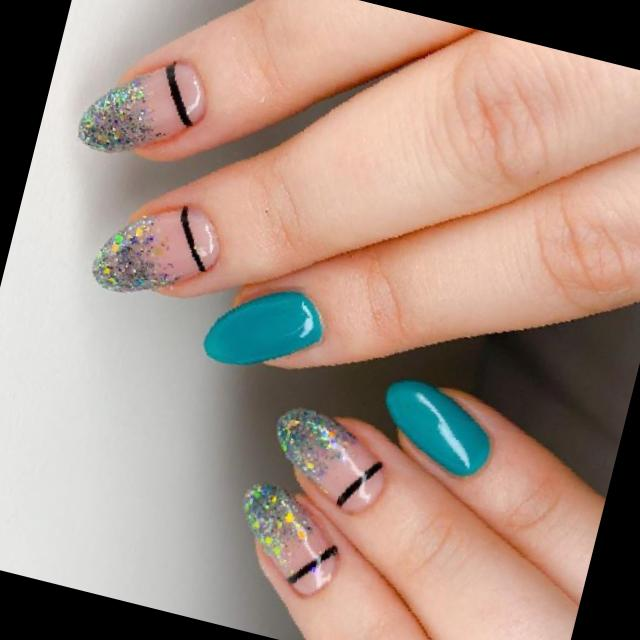Nail: (78, 62, 202, 152), (276, 408, 382, 512), (92, 206, 217, 289), (243, 485, 337, 595), (385, 380, 487, 475), (203, 290, 322, 363)
